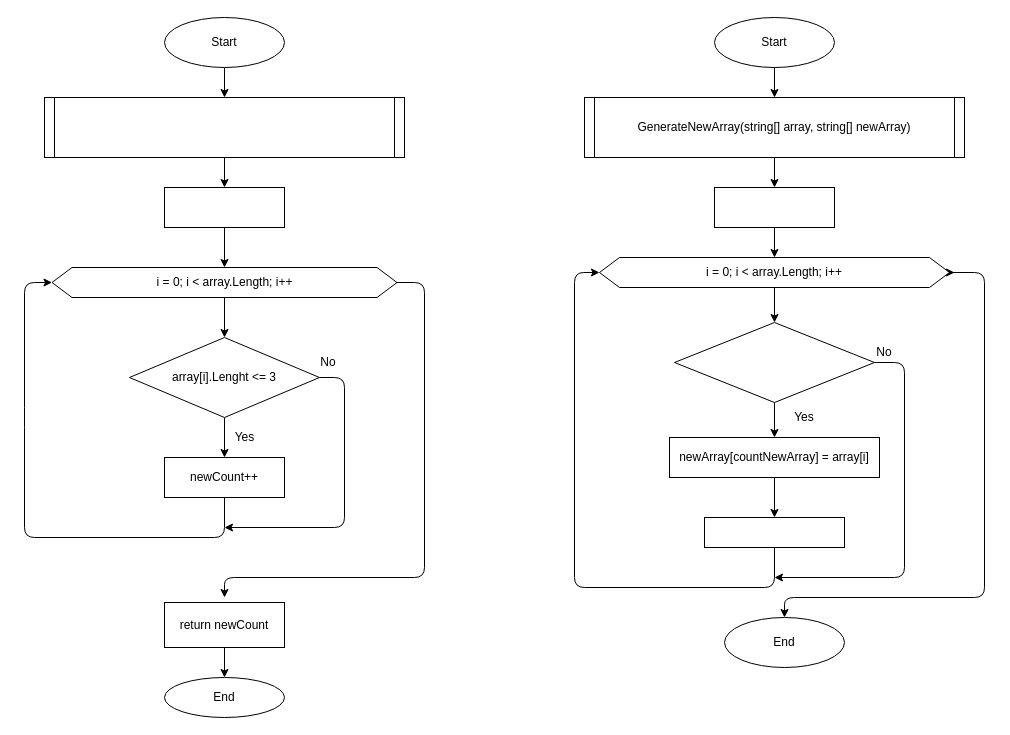
The diagram is 1010 pixels wide and 735 high, and some of its shapes have lost their labels. The box of each missing label's shape, as (x1, y1, x2, y2) in pixels:
array[i].Length <= 3: (674, 322, 874, 402)
countNewArray = 0: (714, 186, 834, 228)
CountNewArray(string[] array): (44, 96, 404, 158)
countNewArray++: (704, 516, 844, 548)
newCount = 0: (164, 186, 284, 228)
